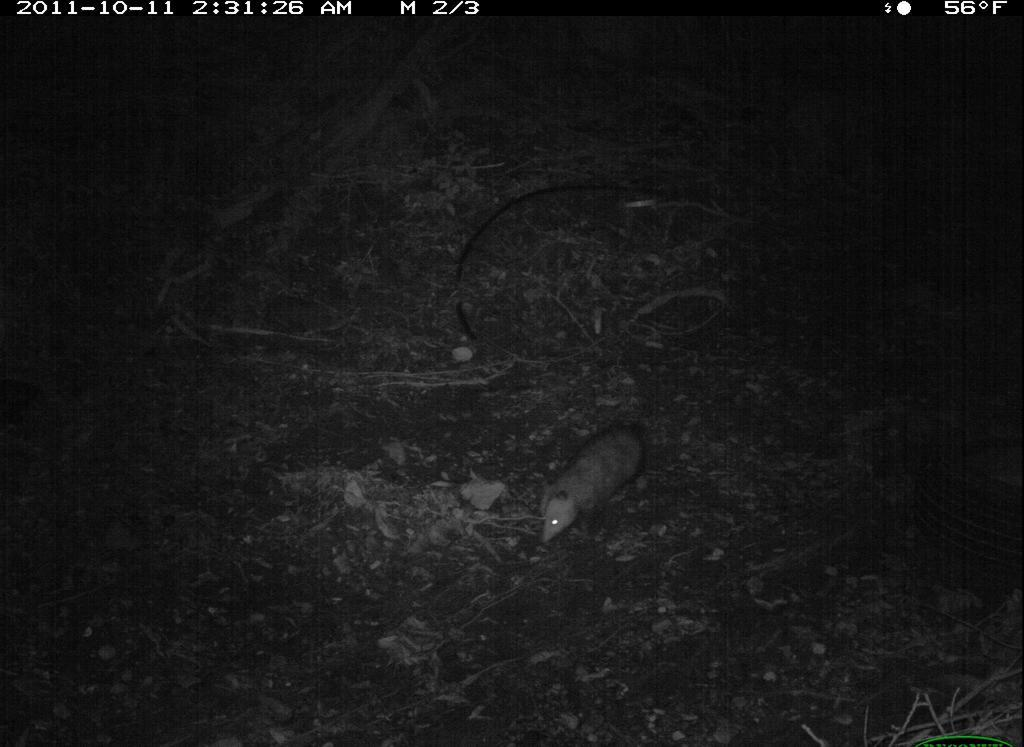opossum: (532, 409, 655, 550)
